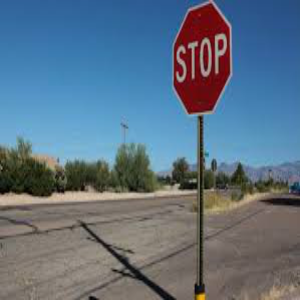STOP_SIGN: (171, 1, 232, 115)
